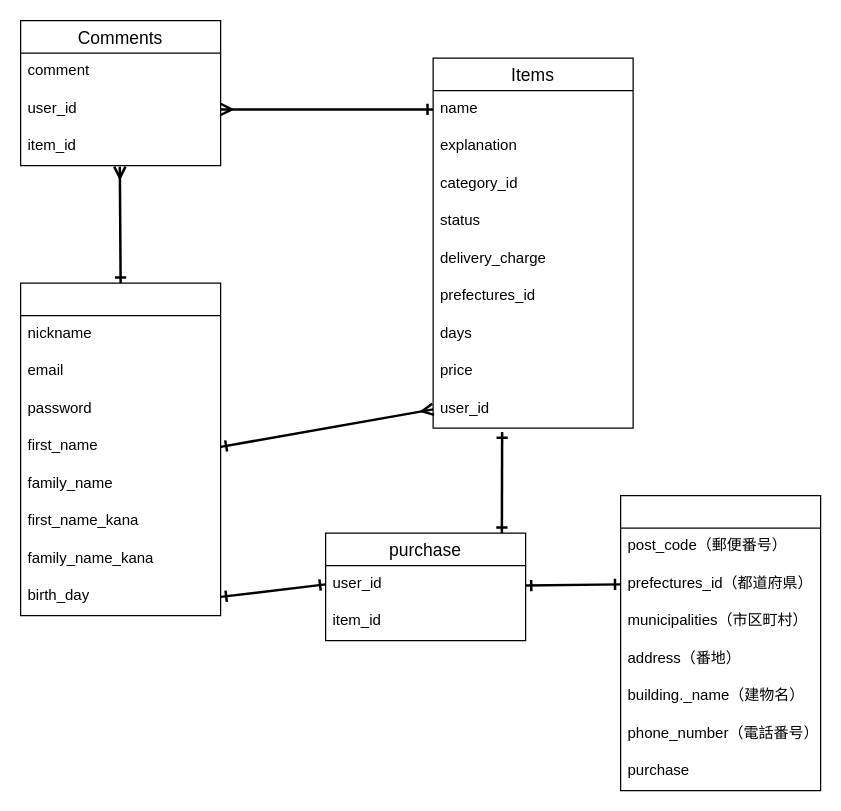
Image size: 841x811. Some labels were removed from this diagram. The shapes that lost their labels are listed below. From the top down, each one's box as (x1, y1, x2, y2) in pixels, then its label:
(19, 282, 221, 616): Users
(619, 494, 821, 791): shipping_address
